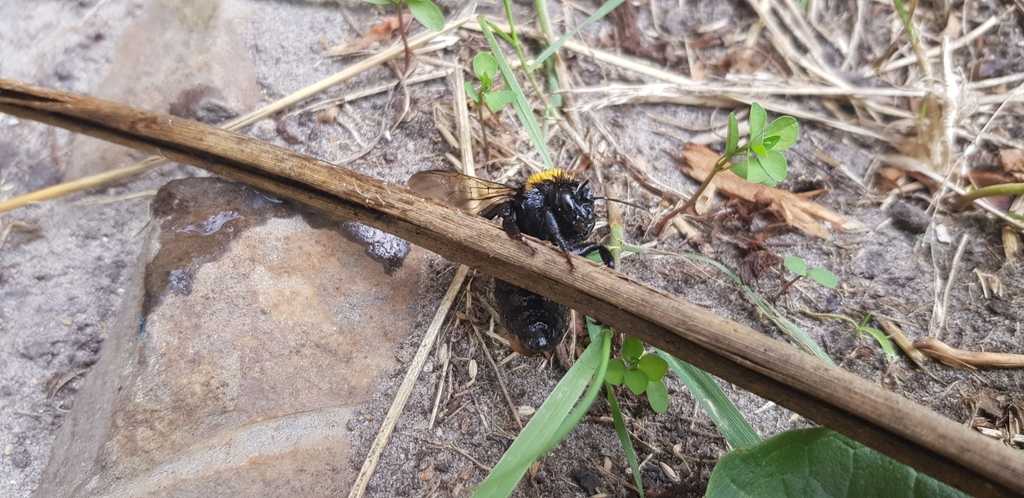bumblebee: (406, 168, 647, 358)
